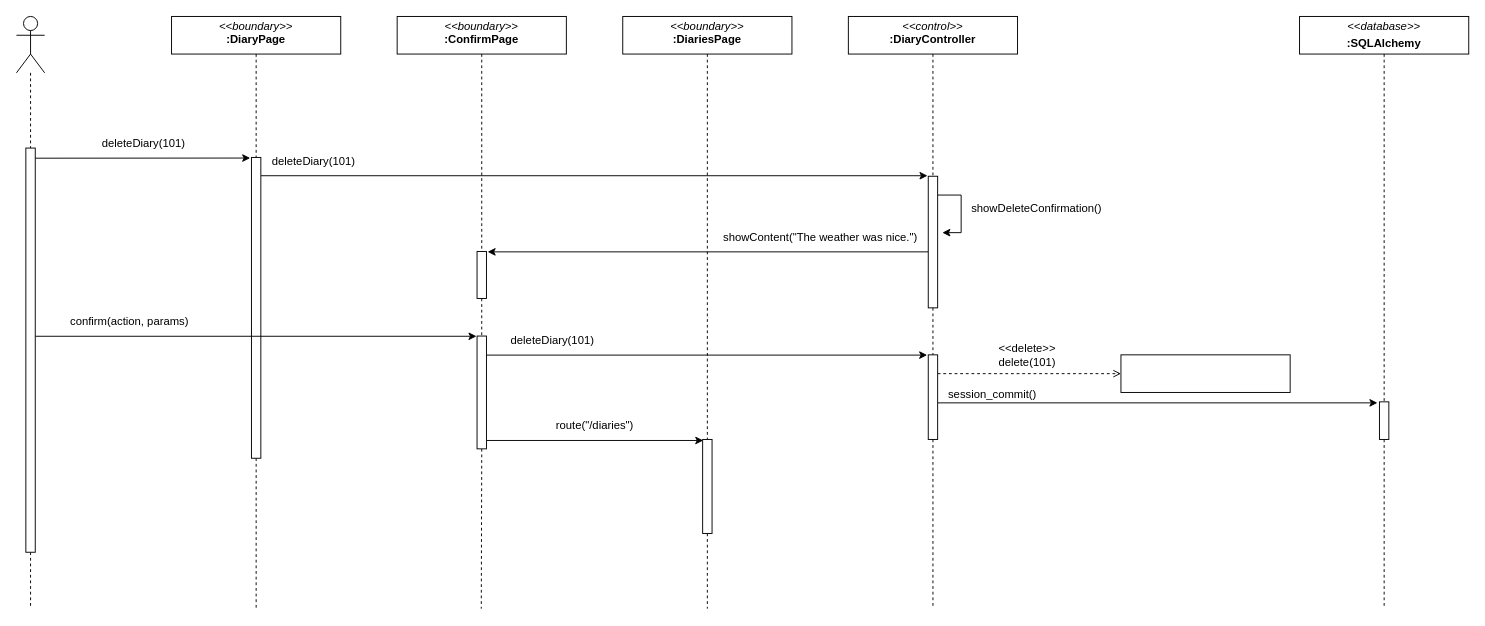
This 1485x626 diagram has some shape labels left out. The shapes that lost their labels are listed below. From the top down, each one's centre as x and y in pixels, then its label:
[30,44]: :User
[1205,373]: <<entity >> deleteDiary:Diary
